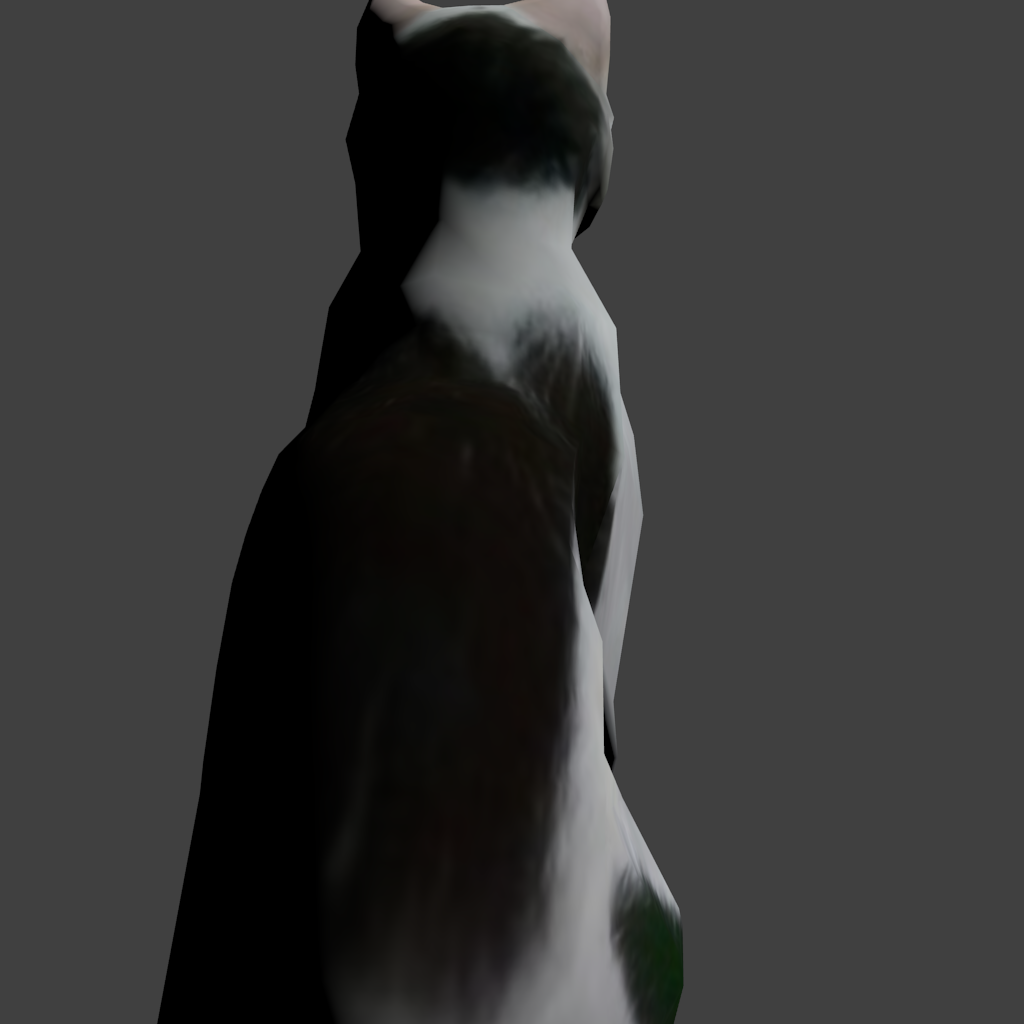Cat: (14, 0, 707, 1024)
